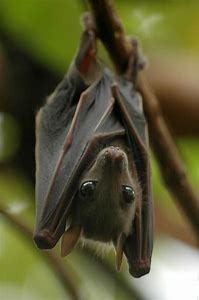bat: (24, 10, 165, 283)
